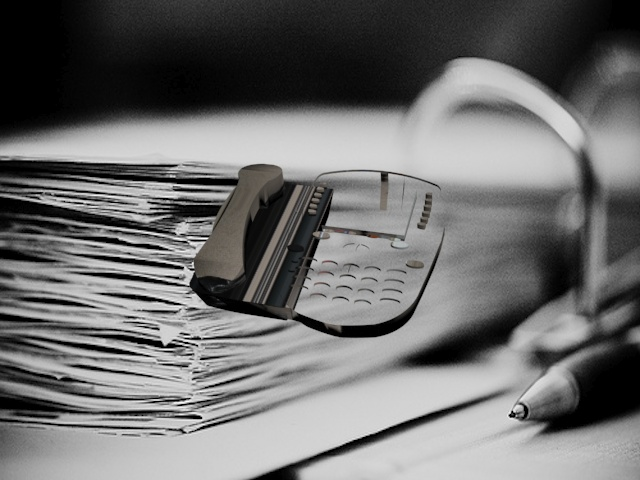phone: (185, 161, 448, 344)
